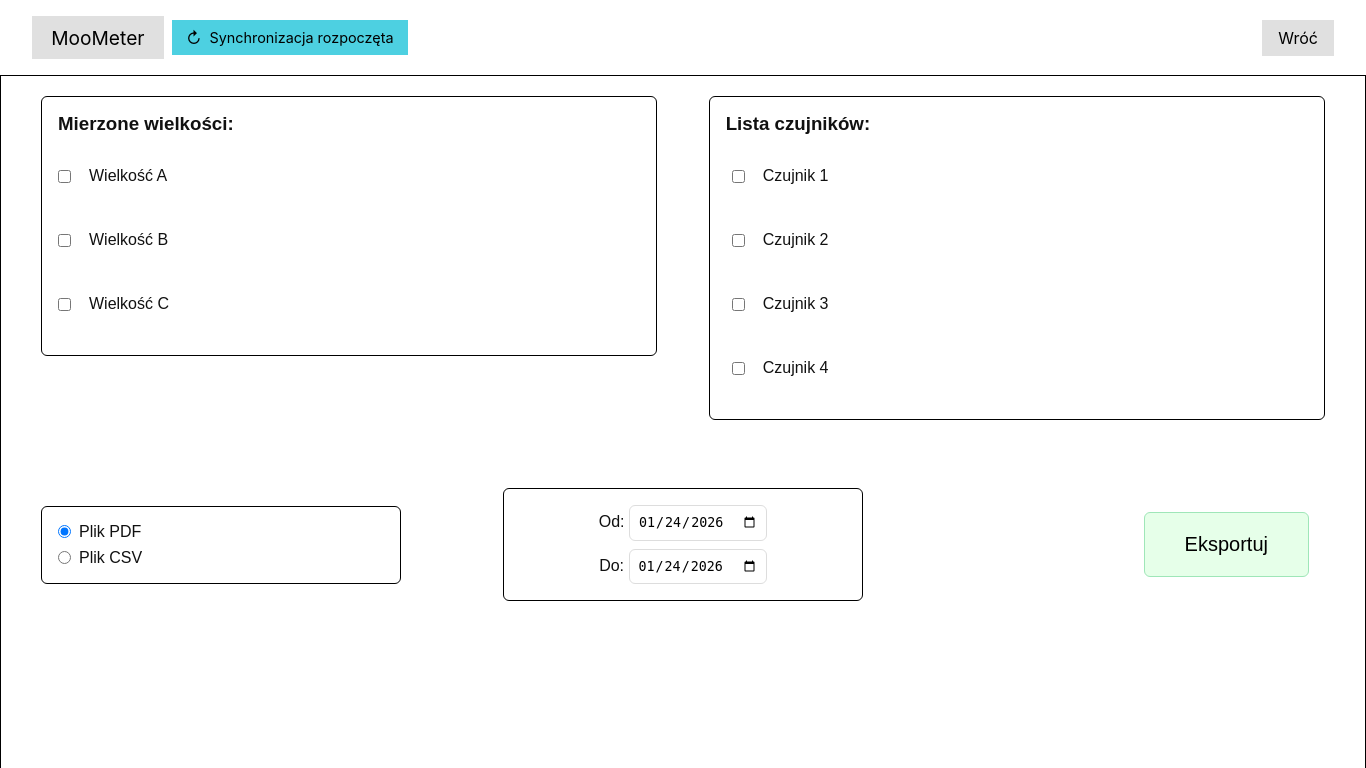
Test: ExportPanel – UI and validation display › powinien wyświetlić błędy walidacji z backendu
The width and height of the screenshot is (1366, 768).
Note: wybór parametrów
Click the checkbox labelled "Wielkość A" at (64, 176), box [58,170,71,183]
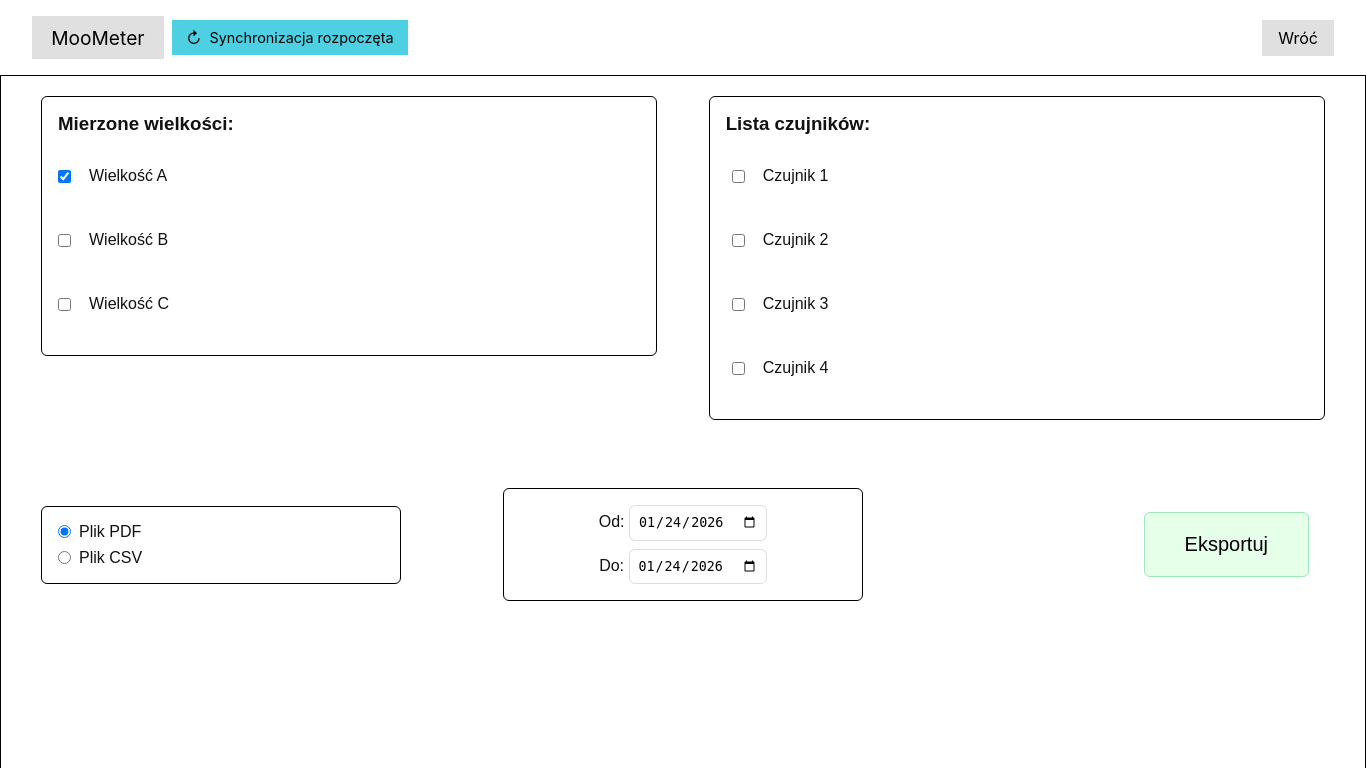
Click the checkbox labelled "Czujnik 1" at (738, 176), box [732,170,745,183]
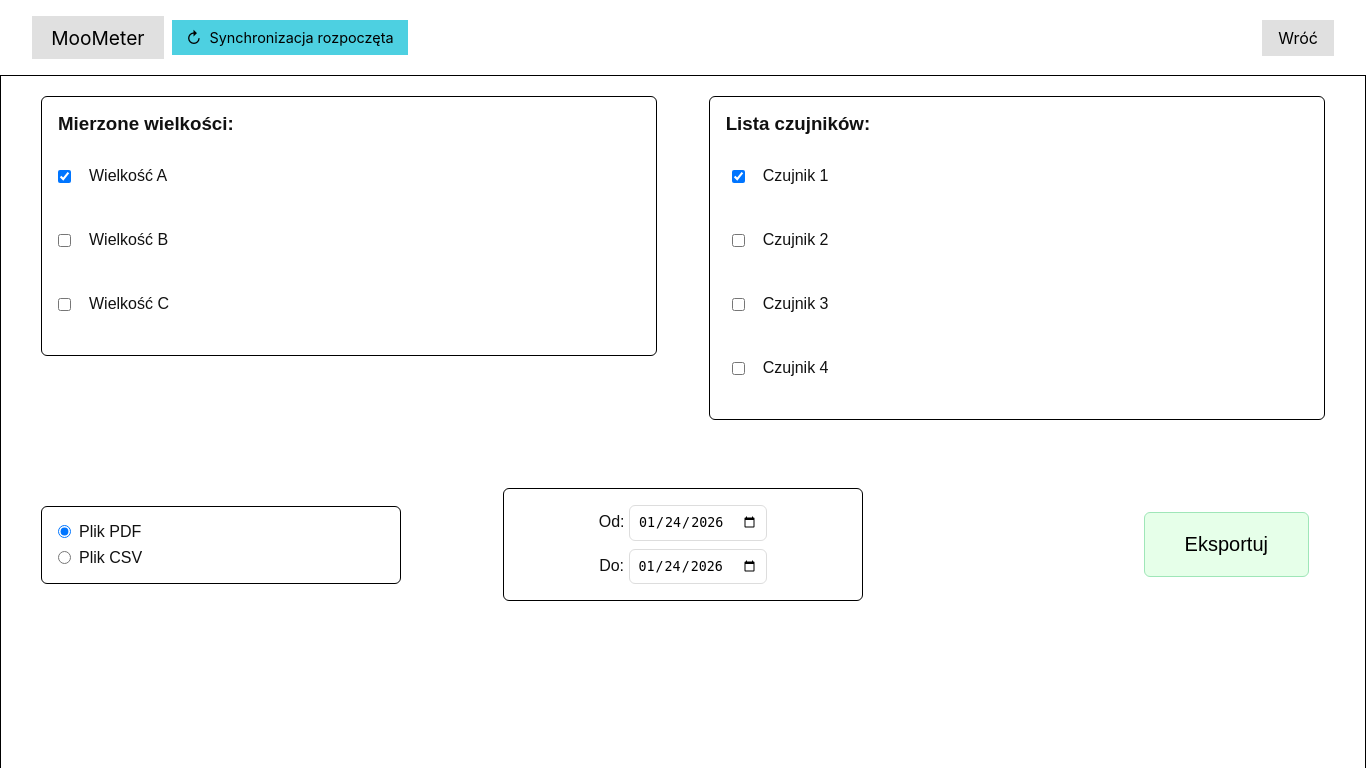
Click the button "Eksportuj" at (1226, 544), box [1144,512,1309,577]
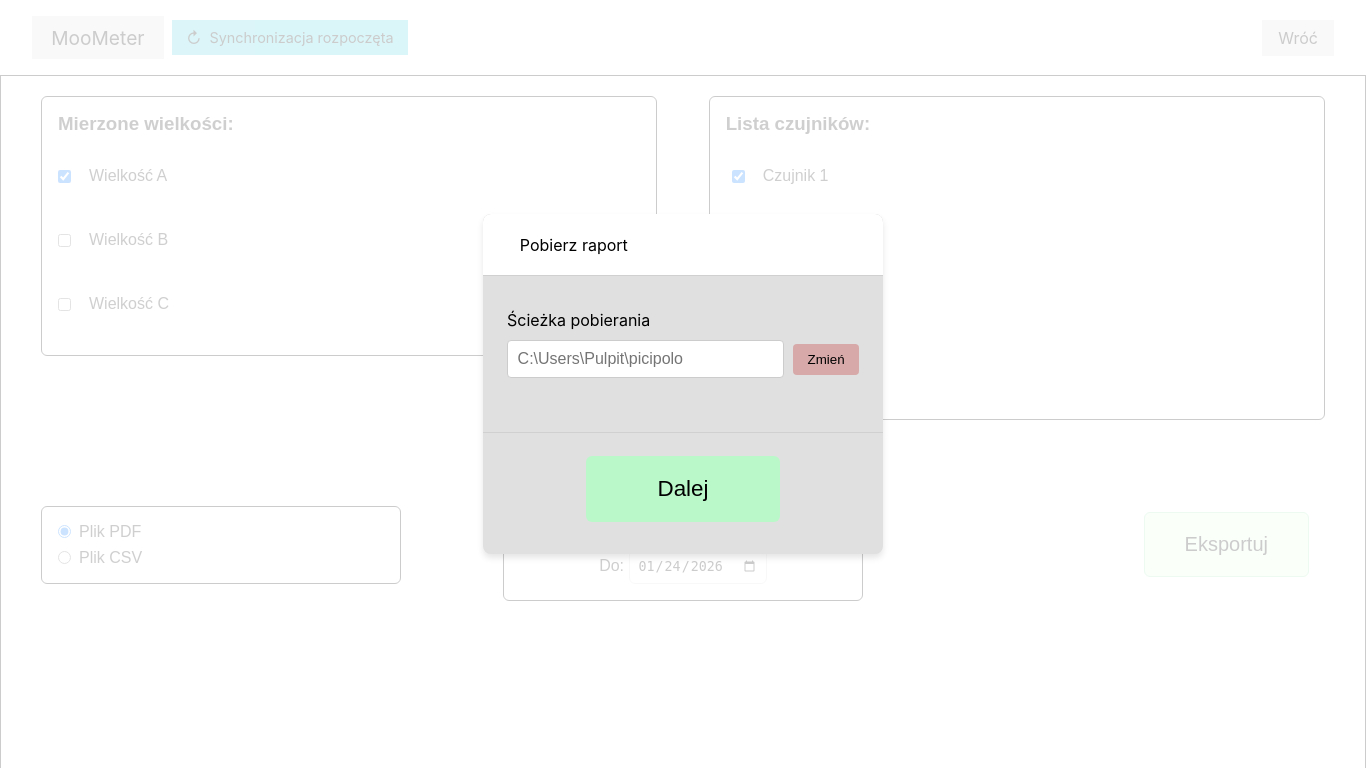
Note: modal wyboru ścieżki
Type "C:\\Test" into the field with placeholder "C:\\Users\\Pulpit\\picipolo" at (645, 359), box [507,340,784,378]
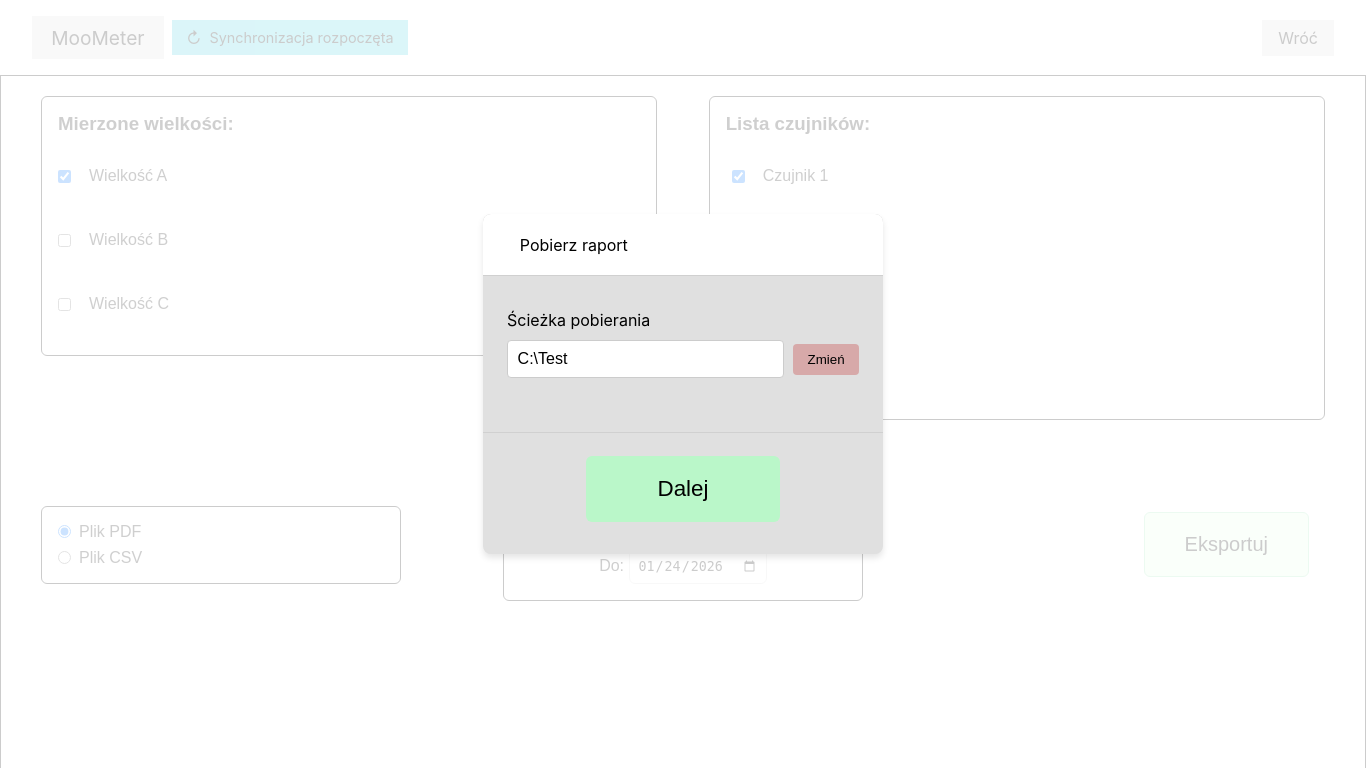
Click the button "Dalej" at (683, 489), box [586,456,780,522]
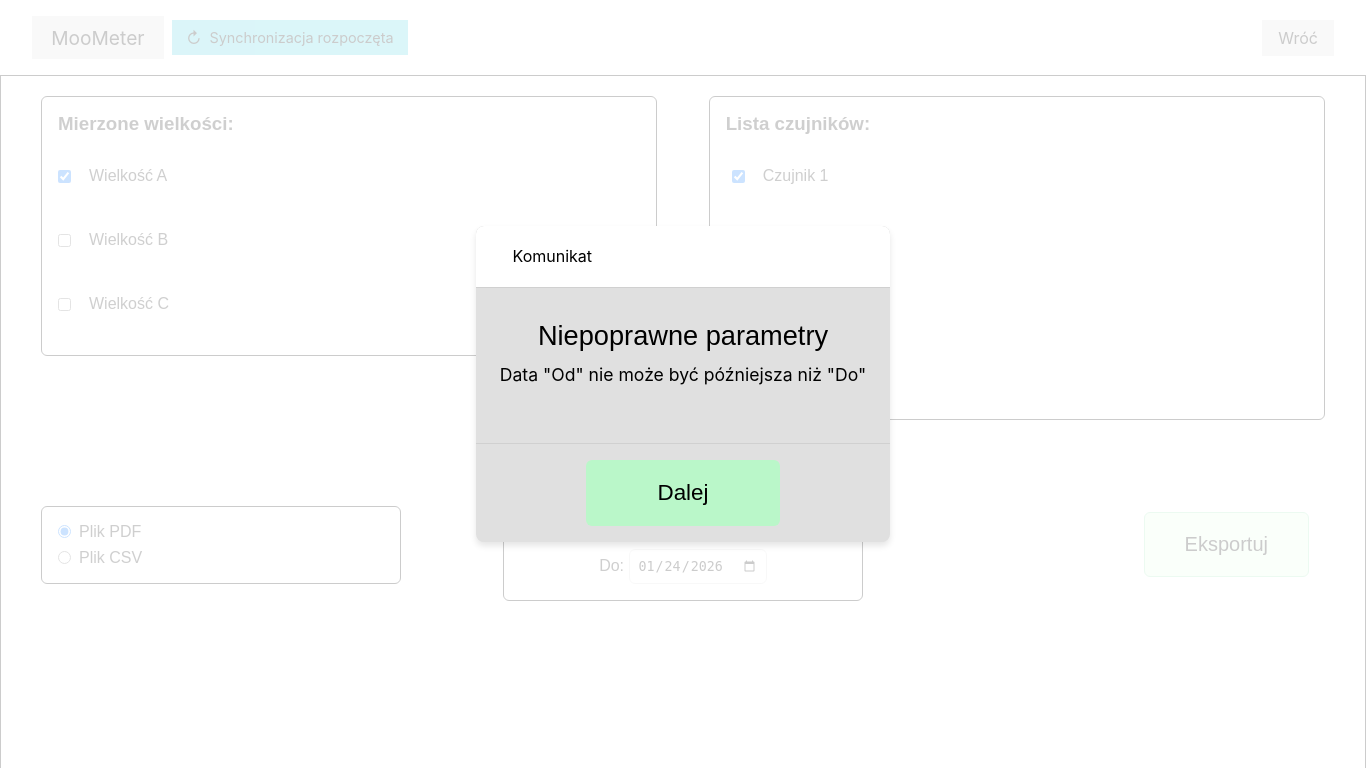
Expected: the text "Data \"Od\" nie może być późniejsza niż \"Do\"" is shown, [500,362,866,389]
Expected: the text "Niepoprawne parametry" is shown, [538,320,828,351]
